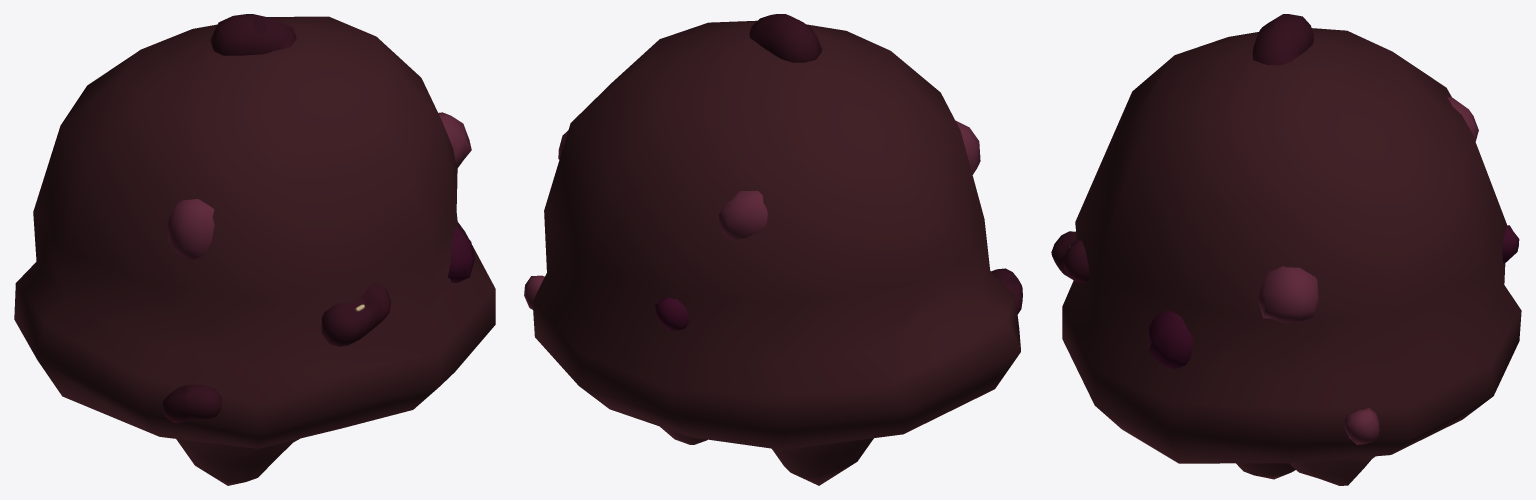
File: paste_Item.fbx
The picture shows the model from 3 angles, left to right: view 1: azimuth 30°, elevation 25°; view 2: azimuth 150°, elevation 25°; view 3: azimuth 270°, elevation 25°; orthographic projection. The views are drawn at different scales.
Parts seen in each view (by area): view 1: Cube.029; view 2: Cube.029; view 3: Cube.029.
Boxes of the visible parts, x1,y1,x2,y2 form: Cube.029: (14, 14, 495, 485); Cube.029: (524, 14, 1022, 485); Cube.029: (1051, 14, 1521, 485).
Size of the model in its own units: 273 by 271 by 243.
